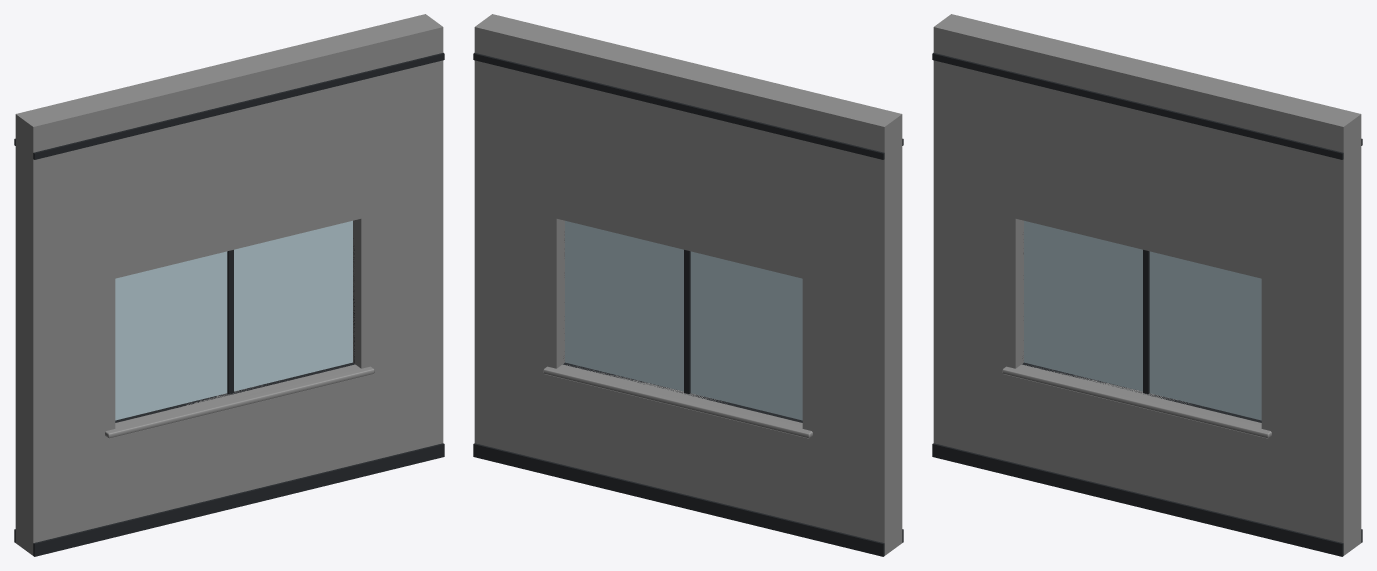
Rendered from Wall_Lab_Window_4m.fbx.
3 renders of one model, left to right at view 1: azimuth 30°, elevation 25°; view 2: azimuth 150°, elevation 25°; view 3: azimuth 330°, elevation 25°, orthographic.
Parts seen in each view (by area): view 1: Wall_Lab_Window_4m_LOD0; view 2: Wall_Lab_Window_4m_LOD0; view 3: Wall_Lab_Window_4m_LOD0.
Part boxes in pixels (x1,y1,x2,y2): Wall_Lab_Window_4m_LOD0: [14, 14, 444, 556]; Wall_Lab_Window_4m_LOD0: [473, 14, 903, 556]; Wall_Lab_Window_4m_LOD0: [932, 14, 1362, 556].
Size of what is drawn, in the model's own units: 4 by 4 by 0.42.
